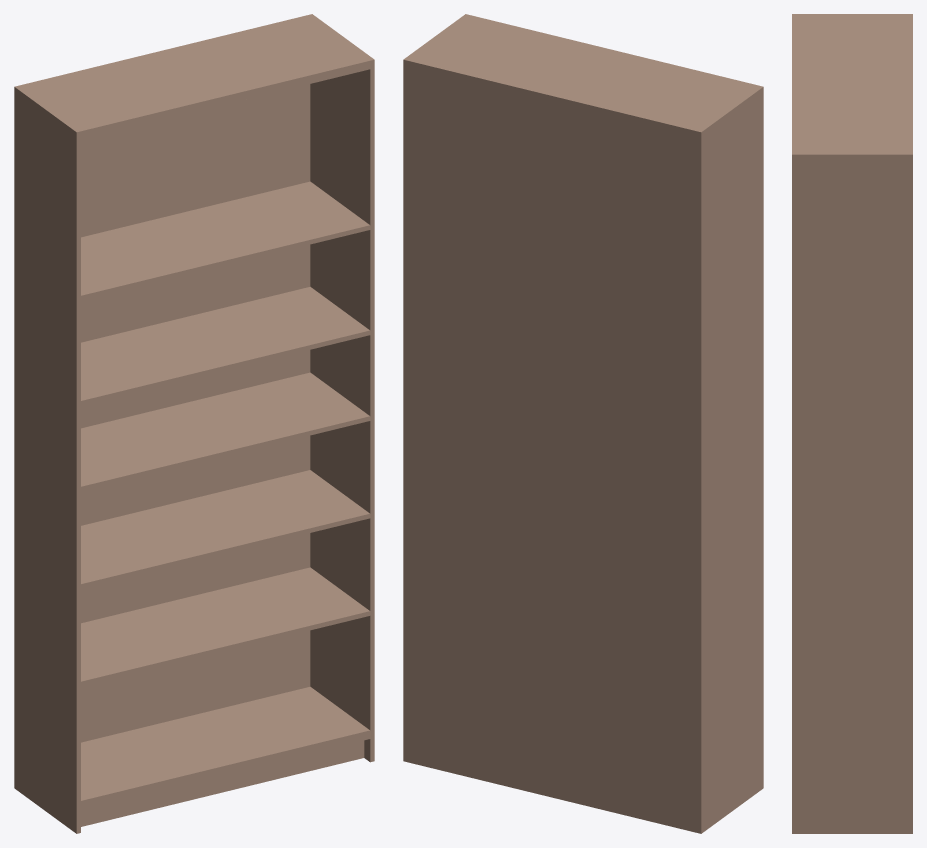
3 renders of one model, left to right at view 1: azimuth 30°, elevation 25°; view 2: azimuth 150°, elevation 25°; view 3: azimuth 270°, elevation 25°, orthographic. The views are drawn at different scales.
Visible parts, largest first — view 1: 棚, 板5, 板4, 板2, 板3, 板1; view 2: 棚; view 3: 棚.
Boxes of the visible parts, x1,y1,x2,y2 form: 棚: (14, 14, 374, 833); 板5: (81, 567, 370, 686); 板4: (81, 470, 370, 588); 板2: (81, 286, 370, 405); 板3: (81, 372, 370, 491); 板1: (81, 181, 370, 300); 棚: (403, 14, 763, 833); 棚: (792, 14, 912, 833).
Size of the model in its own units: 0.8 by 1.8 by 0.29.
